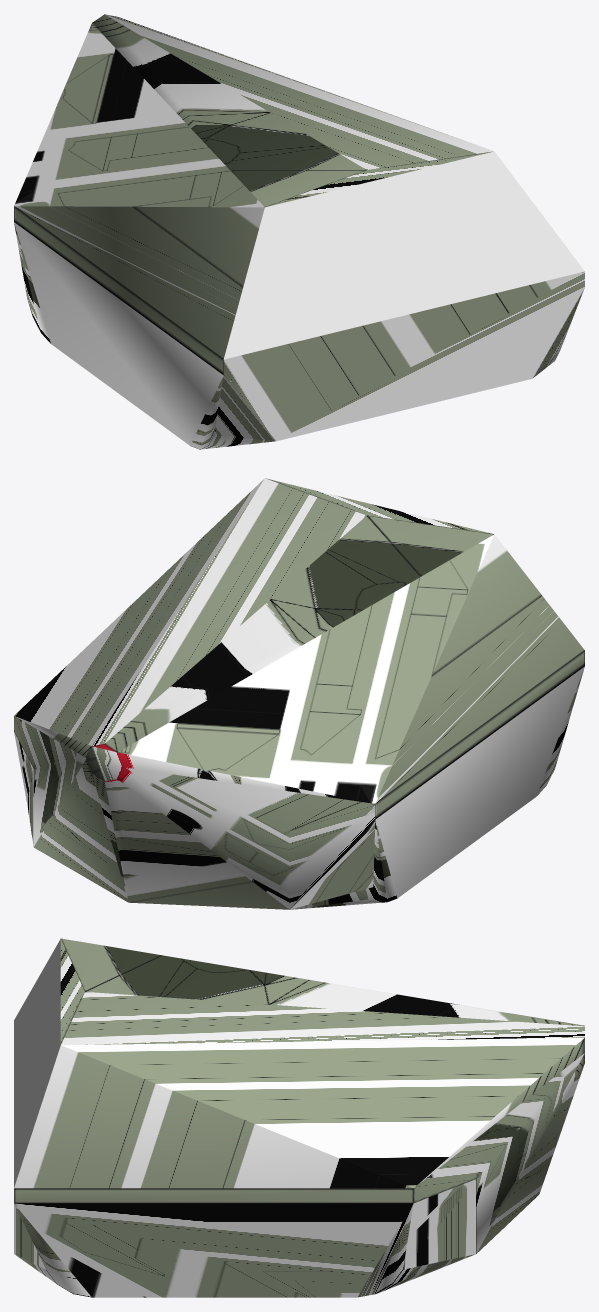
Rendered from tank_collider.glb.
3 renders of one model, top to bottom at view 1: azimuth 30°, elevation 25°; view 2: azimuth 150°, elevation 25°; view 3: azimuth 270°, elevation 25°, orthographic. The views are drawn at different scales.
Visible parts, largest first — view 1: Cube; view 2: Cube; view 3: Cube.
Boxes of the visible parts, x1,y1,x2,y2 form: Cube: (14, 14, 584, 449); Cube: (14, 478, 584, 909); Cube: (14, 938, 584, 1297).
Size of the model in its own units: 4.8 by 3 by 6.89.
1 material, 1 textured.
